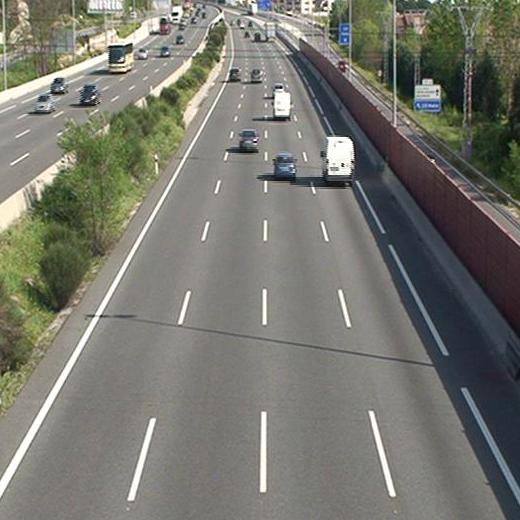car: (272, 154, 295, 179), (240, 129, 257, 150), (229, 67, 241, 82), (250, 69, 261, 82)
van: (323, 137, 354, 183), (272, 91, 290, 119)
